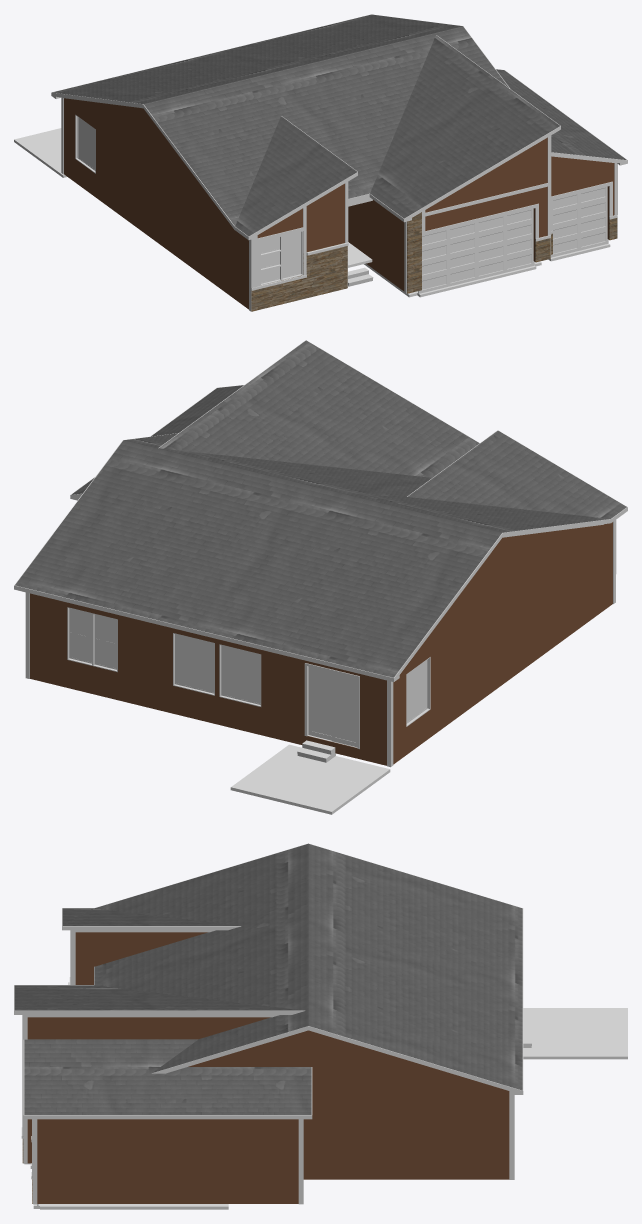
File: 150-1569-dm-modern.glb
3 views of the same model, one above another, from view 1: azimuth 30°, elevation 25°; view 2: azimuth 150°, elevation 25°; view 3: azimuth 270°, elevation 25° (orthographic). The views are drawn at different scales.
Parts seen in each view (by area): view 1: Basic Roof Wood Rafter 4" - Asphalt Shingle - Insulated_c235, Basic Roof Wood Rafter 4" - Asphalt Shingle - Insulated_1447, Basic Wall BSB Exterior - Stud_5.5" - Sheathing_0.5" - _1e27, Basic Roof Wood Rafter 4" - Asphalt Shingle - Insulated_2959, Traditional - BSB Exterior - Overhead Garage Door - Clo_eb53, Basic Wall BSB Exterior - Stud_1.5" - Sheathing_0.5" - _1d3a, Basic Wall BSB Exterior - Stud_3.5" - Sheathing_0.5" - _ef8a, Fascia Fascia-Flat 1x6 w/12" Soffit Bd [4320844], Traditional - BSB Exterior - Overhead Garage Door - Clo_602a, Basic Wall BSB Exterior - Stone Veneer_2" [4292391], Basic Wall BSB Exterior - Stud_1.5" - Sheathing_0.5" - _75e7, Basic Roof Wood Rafter 4" - Asphalt Shingle - Insulated_aec7 (+16 smaller); view 2: Basic Roof Wood Rafter 4" - Asphalt Shingle - Insulated_c235, Basic Roof Wood Rafter 4" - Asphalt Shingle - Insulated_1447, Basic Wall BSB Exterior - Stud_5.5" - Sheathing_0.5" - _50df, Basic Wall BSB Exterior - Stud_5.5" - Sheathing_0.5" - _1e27, Basic Roof Wood Rafter 4" - Asphalt Shingle - Insulated_2959, Floor Generic - 4" [4266487], Basic Wall BSB Exterior - Stud_1.5" - Sheathing_0.5" - _1d3a, Fascia Fascia-Flat 1x6 w/12" Soffit Bd [4320844], BSB Exterior - SGD XO - 1-Lite 6080 [4266501], BSB Fixed 5060 FX w/ Sill [4266502], BSB Fixed 5060 FX w/ Sill [4266503], Basic Wall BSB Exterior - Stud_5.5" - Sheathing_0.5" - _526c (+5 smaller); view 3: Basic Roof Wood Rafter 4" - Asphalt Shingle - Insulated_c235, Basic Wall BSB Exterior - Stud_5.5" - Sheathing_0.5" - _ae12, Basic Roof Wood Rafter 4" - Asphalt Shingle - Insulated_aec7, Basic Wall BSB Exterior - Stud_3.5" - Sheathing_0.5" - _1afb, Basic Wall BSB Exterior - Stud_1.5" - Sheathing_0.5" - _eb10, Basic Wall BSB Exterior - Stud_3.5" - Sheathing_0.5" - _d089, Fascia Fascia-Flat 1x6 w/12" Soffit Bd [4320844], Basic Wall BSB Exterior - Stud_5.5" - Sheathing_0.5" - _a6fc, Floor Generic - 4" [4266487], Basic Roof Wood Rafter 4" - Asphalt Shingle - Insulated_1447, Basic Wall BSB Exterior - Stud_1.5" - Sheathing_0.5" - _e23e, Basic Wall BSB Exterior - Stud_1.5" - Sheathing_0.5" - _117d (+4 smaller).
Boxes of the visible parts, box(x1,y1,x2,y2) form: Basic Roof Wood Rafter 4" - Asphalt Shingle - Insulated_c235: box(52, 14, 508, 225); Basic Roof Wood Rafter 4" - Asphalt Shingle - Insulated_1447: box(370, 35, 559, 218); Basic Wall BSB Exterior - Stud_5.5" - Sheathing_0.5" - _1e27: box(64, 99, 234, 298); Basic Roof Wood Rafter 4" - Asphalt Shingle - Insulated_2959: box(235, 116, 356, 236); Traditional - BSB Exterior - Overhead Garage Door - Clo_eb53: box(418, 208, 534, 293); Basic Wall BSB Exterior - Stud_1.5" - Sheathing_0.5" - _1d3a: box(65, 98, 221, 213); Basic Wall BSB Exterior - Stud_3.5" - Sheathing_0.5" - _ef8a: box(348, 200, 404, 291); Fascia Fascia-Flat 1x6 w/12" Soffit Bd [4320844]: box(52, 14, 626, 239); Traditional - BSB Exterior - Overhead Garage Door - Clo_602a: box(551, 186, 608, 257); Basic Wall BSB Exterior - Stone Veneer_2" [4292391]: box(251, 243, 347, 311); Basic Wall BSB Exterior - Stud_1.5" - Sheathing_0.5" - _75e7: box(425, 137, 547, 212); Basic Roof Wood Rafter 4" - Asphalt Shingle - Insulated_aec7: box(496, 69, 626, 159); Basic Roof Wood Rafter 4" - Asphalt Shingle - Insulated_c235: box(15, 433, 609, 677); Basic Roof Wood Rafter 4" - Asphalt Shingle - Insulated_1447: box(159, 340, 479, 477); Basic Wall BSB Exterior - Stud_5.5" - Sheathing_0.5" - _50df: box(30, 593, 386, 765); Basic Wall BSB Exterior - Stud_5.5" - Sheathing_0.5" - _1e27: box(393, 527, 595, 764); Basic Roof Wood Rafter 4" - Asphalt Shingle - Insulated_2959: box(407, 430, 626, 518); Floor Generic - 4" [4266487]: box(230, 744, 390, 814); Basic Wall BSB Exterior - Stud_1.5" - Sheathing_0.5" - _1d3a: box(409, 526, 595, 662); Fascia Fascia-Flat 1x6 w/12" Soffit Bd [4320844]: box(14, 340, 627, 681); BSB Exterior - SGD XO - 1-Lite 6080 [4266501]: box(304, 663, 359, 749); BSB Fixed 5060 FX w/ Sill [4266502]: box(219, 644, 261, 706); BSB Fixed 5060 FX w/ Sill [4266503]: box(173, 633, 214, 695); Basic Wall BSB Exterior - Stud_5.5" - Sheathing_0.5" - _526c: box(595, 522, 612, 616); Basic Roof Wood Rafter 4" - Asphalt Shingle - Insulated_c235: box(94, 843, 522, 1090); Basic Wall BSB Exterior - Stud_5.5" - Sheathing_0.5" - _ae12: box(303, 1090, 509, 1179); Basic Roof Wood Rafter 4" - Asphalt Shingle - Insulated_aec7: box(24, 1039, 311, 1114); Basic Wall BSB Exterior - Stud_3.5" - Sheathing_0.5" - _1afb: box(37, 1119, 134, 1203); Basic Wall BSB Exterior - Stud_1.5" - Sheathing_0.5" - _eb10: box(188, 1030, 505, 1090); Basic Wall BSB Exterior - Stud_3.5" - Sheathing_0.5" - _d089: box(134, 1119, 230, 1203); Fascia Fascia-Flat 1x6 w/12" Soffit Bd [4320844]: box(14, 843, 523, 1119); Basic Wall BSB Exterior - Stud_5.5" - Sheathing_0.5" - _a6fc: box(231, 1119, 298, 1203); Floor Generic - 4" [4266487]: box(523, 1008, 627, 1059); Basic Roof Wood Rafter 4" - Asphalt Shingle - Insulated_1447: box(14, 985, 302, 1010); Basic Wall BSB Exterior - Stud_1.5" - Sheathing_0.5" - _e23e: box(27, 1017, 270, 1039); Basic Wall BSB Exterior - Stud_1.5" - Sheathing_0.5" - _117d: box(75, 932, 207, 970).
Size of the model in its own units: 15.58 by 5.83 by 19.53.
3 materials, 2 textured.
